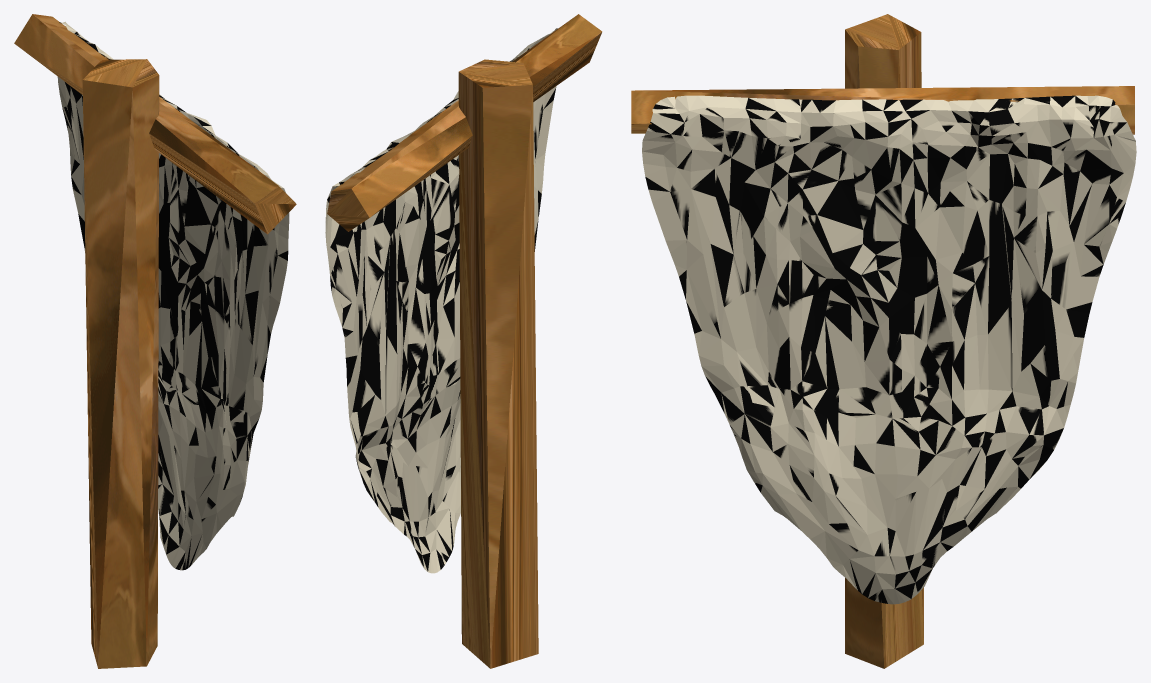
The model's file is flag 1.fbx.
The picture shows the model from 3 angles, left to right: view 1: azimuth 30°, elevation 25°; view 2: azimuth 150°, elevation 25°; view 3: azimuth 270°, elevation 25°; orthographic projection. The views are drawn at different scales.
Visible parts, largest first — view 1: Cylinder_1, Plane, Cylinder; view 2: Cylinder_1, Plane, Cylinder; view 3: Plane, Cylinder_1, Cylinder.
Boxes of the visible parts, x1,y1,x2,y2 form: Cylinder_1: (82,59,159,668); Plane: (57,21,289,570); Cylinder: (14,14,296,234); Cylinder_1: (458,59,538,668); Plane: (325,28,557,573); Cylinder: (327,14,602,231); Plane: (642,95,1136,604); Cylinder_1: (845,14,923,668); Cylinder: (631,86,1134,134).
Size of the model in its own units: 68.4 by 353 by 262.
Materials: 2 (2 with a texture image).
